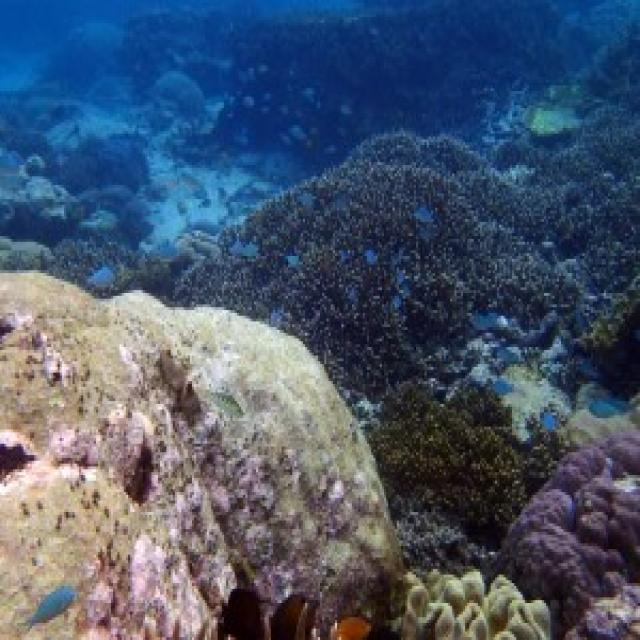Healthy: (1, 271, 408, 638), (176, 135, 639, 396), (500, 433, 639, 638), (372, 385, 526, 536), (402, 570, 549, 638)
